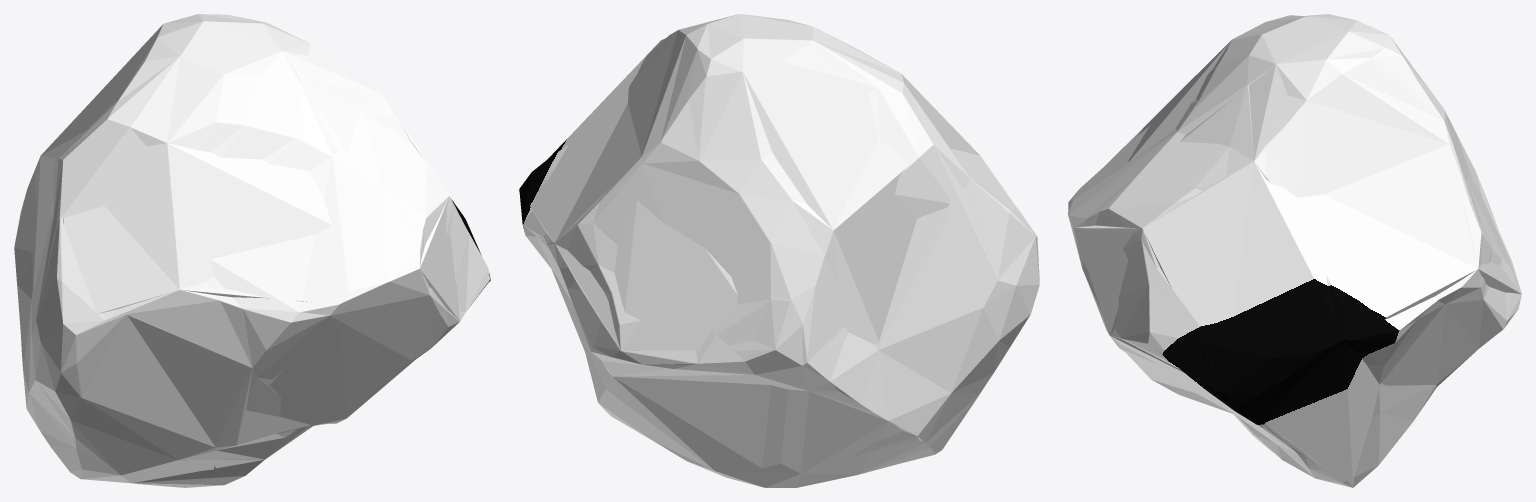
Rendered from Deco_Rock_Collider_Compound.glb.
3 views of the same model, side by side, from view 1: azimuth 30°, elevation 25°; view 2: azimuth 150°, elevation 25°; view 3: azimuth 270°, elevation 25° (orthographic). The views are drawn at different scales.
Visible parts, largest first — view 1: Deco_Rock_Collider_Compound, Deco_Rock_Collider_ConvexHull; view 2: Deco_Rock_Collider_Compound, Deco_Rock_Collider_ConvexHull; view 3: Deco_Rock_Collider_Compound, Deco_Rock_Collider_ConvexHull.
Part boxes in pixels (<box>): Deco_Rock_Collider_Compound: <box>14,14,490,487</box>; Deco_Rock_Collider_ConvexHull: <box>32,25,465,470</box>; Deco_Rock_Collider_Compound: <box>519,14,1039,487</box>; Deco_Rock_Collider_ConvexHull: <box>519,40,1029,468</box>; Deco_Rock_Collider_Compound: <box>1068,14,1521,487</box>; Deco_Rock_Collider_ConvexHull: <box>1073,40,1521,487</box>.
Bounding box in the file's own units: 5.19 × 5.01 × 4.68.
1 material, 1 textured.
